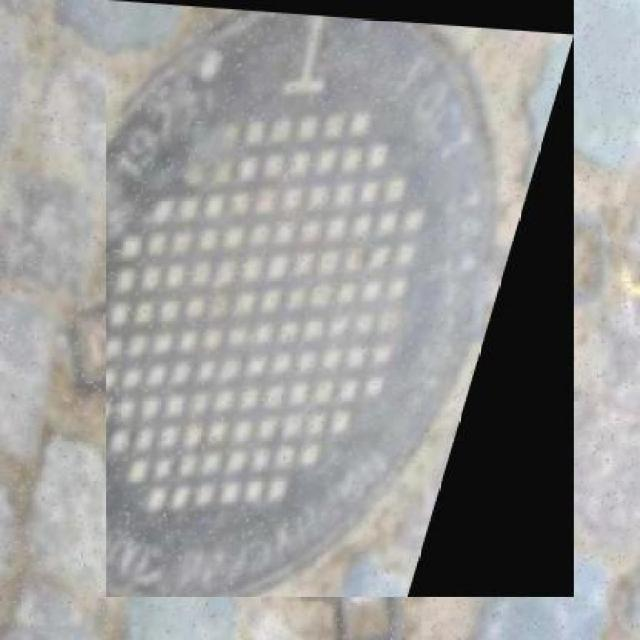Manhole: (106, 0, 574, 597)
